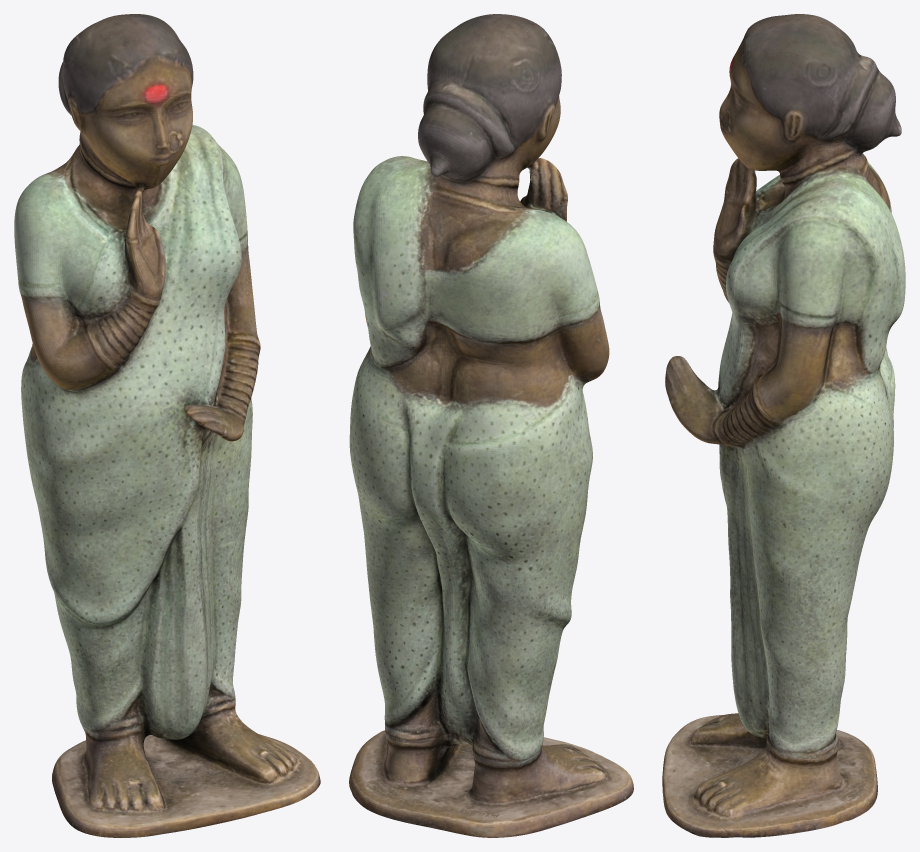
File: female-with-green-saree.glb
3 renders of one model, left to right at view 1: azimuth 30°, elevation 25°; view 2: azimuth 150°, elevation 25°; view 3: azimuth 270°, elevation 25°, orthographic. The views are drawn at different scales.
Visible parts, largest first — view 1: 03 - Female with green Saree2_edITED; view 2: 03 - Female with green Saree2_edITED; view 3: 03 - Female with green Saree2_edITED.
Part boxes in pixels (bbox=[...]): 03 - Female with green Saree2_edITED: bbox=[14, 14, 320, 837]; 03 - Female with green Saree2_edITED: bbox=[349, 14, 633, 837]; 03 - Female with green Saree2_edITED: bbox=[662, 14, 905, 837].
Size of the model in its own units: 0.1718 by 0.5 by 0.1472.
Materials: 2 (1 with a texture image).
